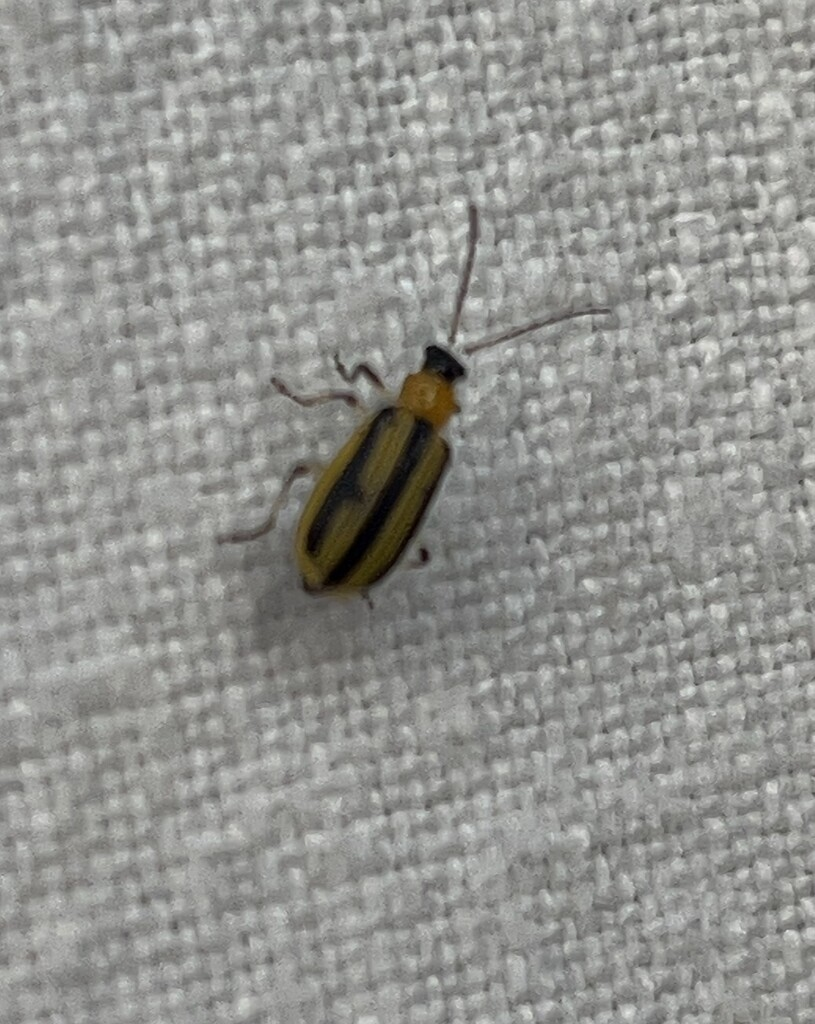potato_beetle: (116, 106, 682, 730)
